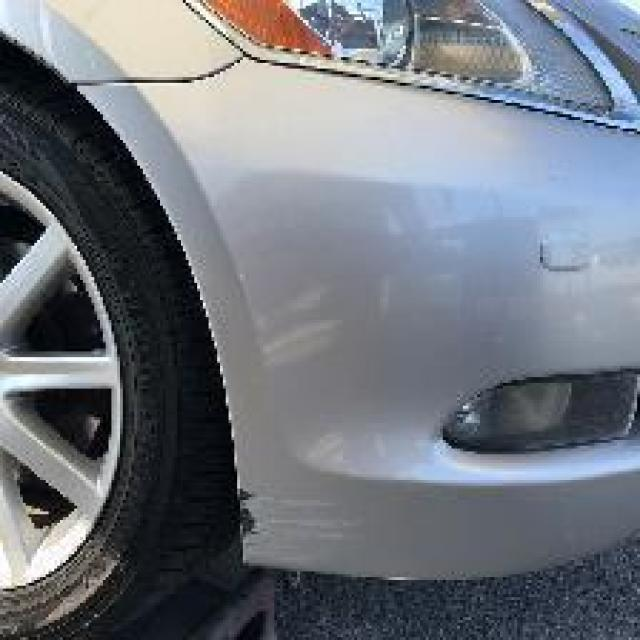damaged: (191, 165, 546, 580)
